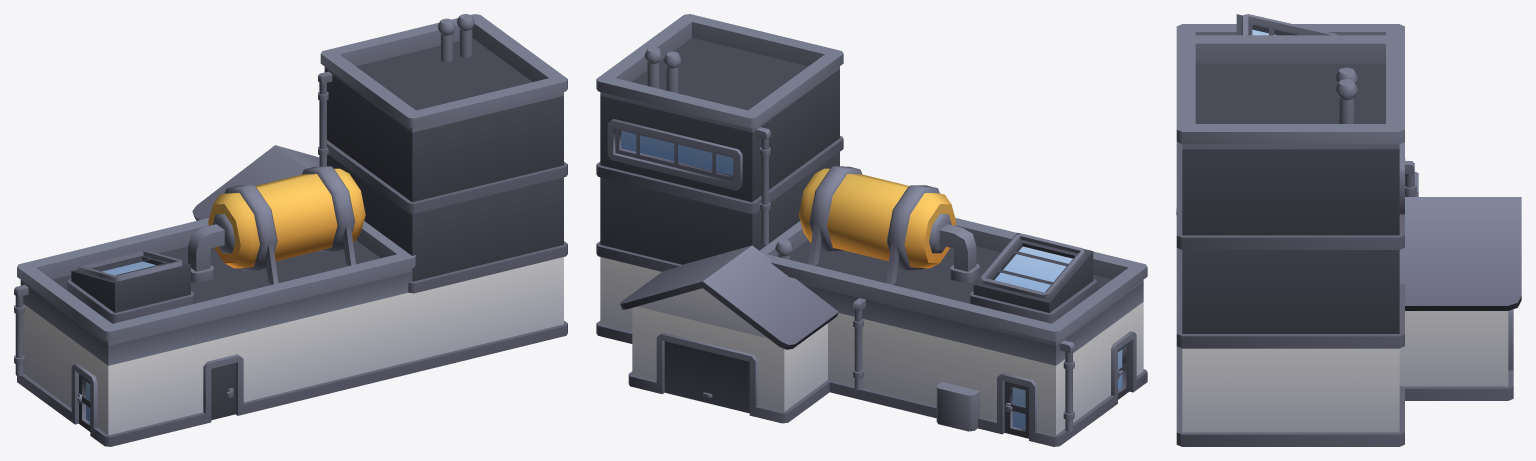
The model's file is kenney-industrial_building-r.glb.
3 views of the same model, side by side, from view 1: azimuth 30°, elevation 25°; view 2: azimuth 150°, elevation 25°; view 3: azimuth 270°, elevation 25° (orthographic). The views are drawn at different scales.
Visible parts, largest first — view 1: building-r; view 2: building-r; view 3: building-r.
Part boxes in pixels (x1,y1,x2,y2): building-r: [14, 14, 567, 446]; building-r: [596, 14, 1147, 446]; building-r: [1176, 14, 1521, 446].
Size of the model in its own units: 2.48 by 1.39 by 1.27.
Materials: 2 (2 with a texture image).
